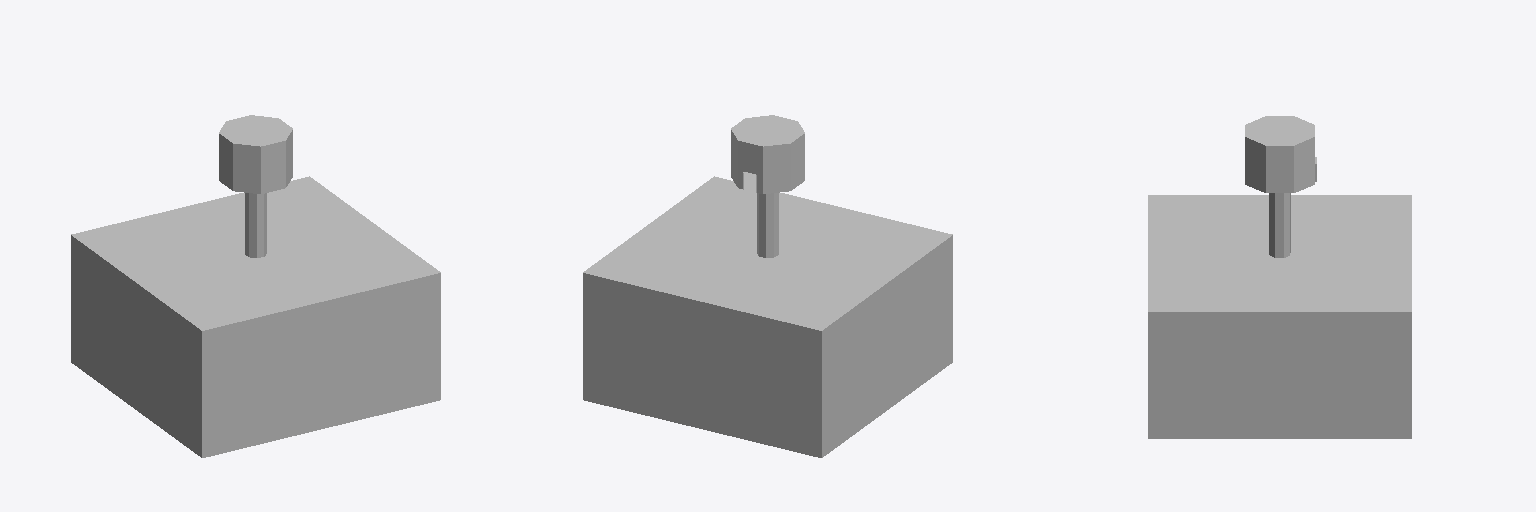
Rendered from bongo bongo room.obj.
The picture shows the model from 3 angles: view 1: azimuth 30°, elevation 25°; view 2: azimuth 150°, elevation 25°; view 3: azimuth 270°, elevation 25°; orthographic projection.
Size of the model in its own units: 55 by 55 by 52.45.